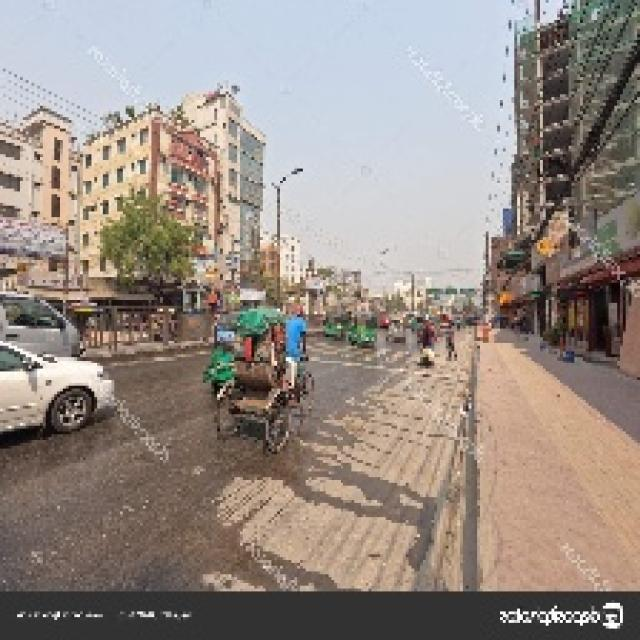car: (6, 325, 116, 440)
rickshaw: (204, 302, 320, 452)
